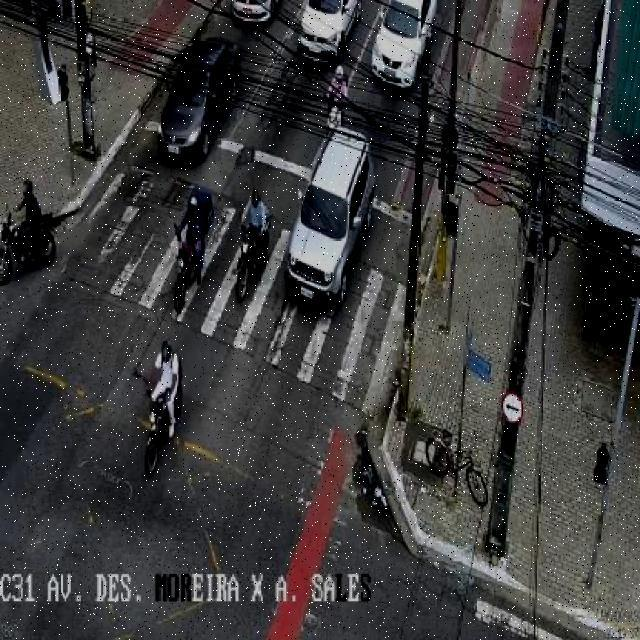Car: (285, 128, 375, 309), (154, 38, 233, 164), (370, 0, 438, 91), (296, 0, 364, 63), (227, 0, 280, 24)
Cycle: (425, 426, 489, 508), (0, 211, 57, 287), (141, 386, 183, 479), (231, 221, 273, 304), (170, 222, 210, 306)
